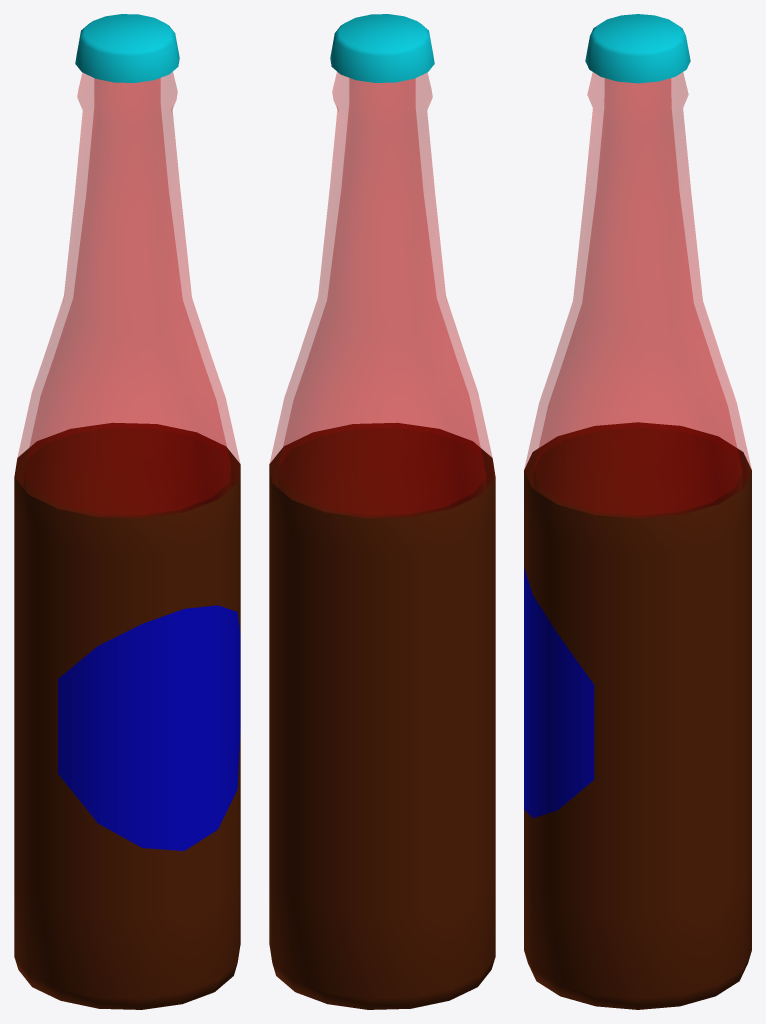
File: soy_sauce.FBX
The picture shows the model from 3 angles, left to right: view 1: azimuth 30°, elevation 25°; view 2: azimuth 150°, elevation 25°; view 3: azimuth 270°, elevation 25°; orthographic projection.
Parts seen in each view (by area): view 1: soy_sauce; view 2: soy_sauce; view 3: soy_sauce.
Boxes of the visible parts, x1,y1,x2,y2 form: soy_sauce: (14, 14, 240, 1009); soy_sauce: (269, 14, 495, 1009); soy_sauce: (524, 14, 751, 1009).
Bounding box in the file's own units: 0.0585 × 0.0585 × 0.2649.
